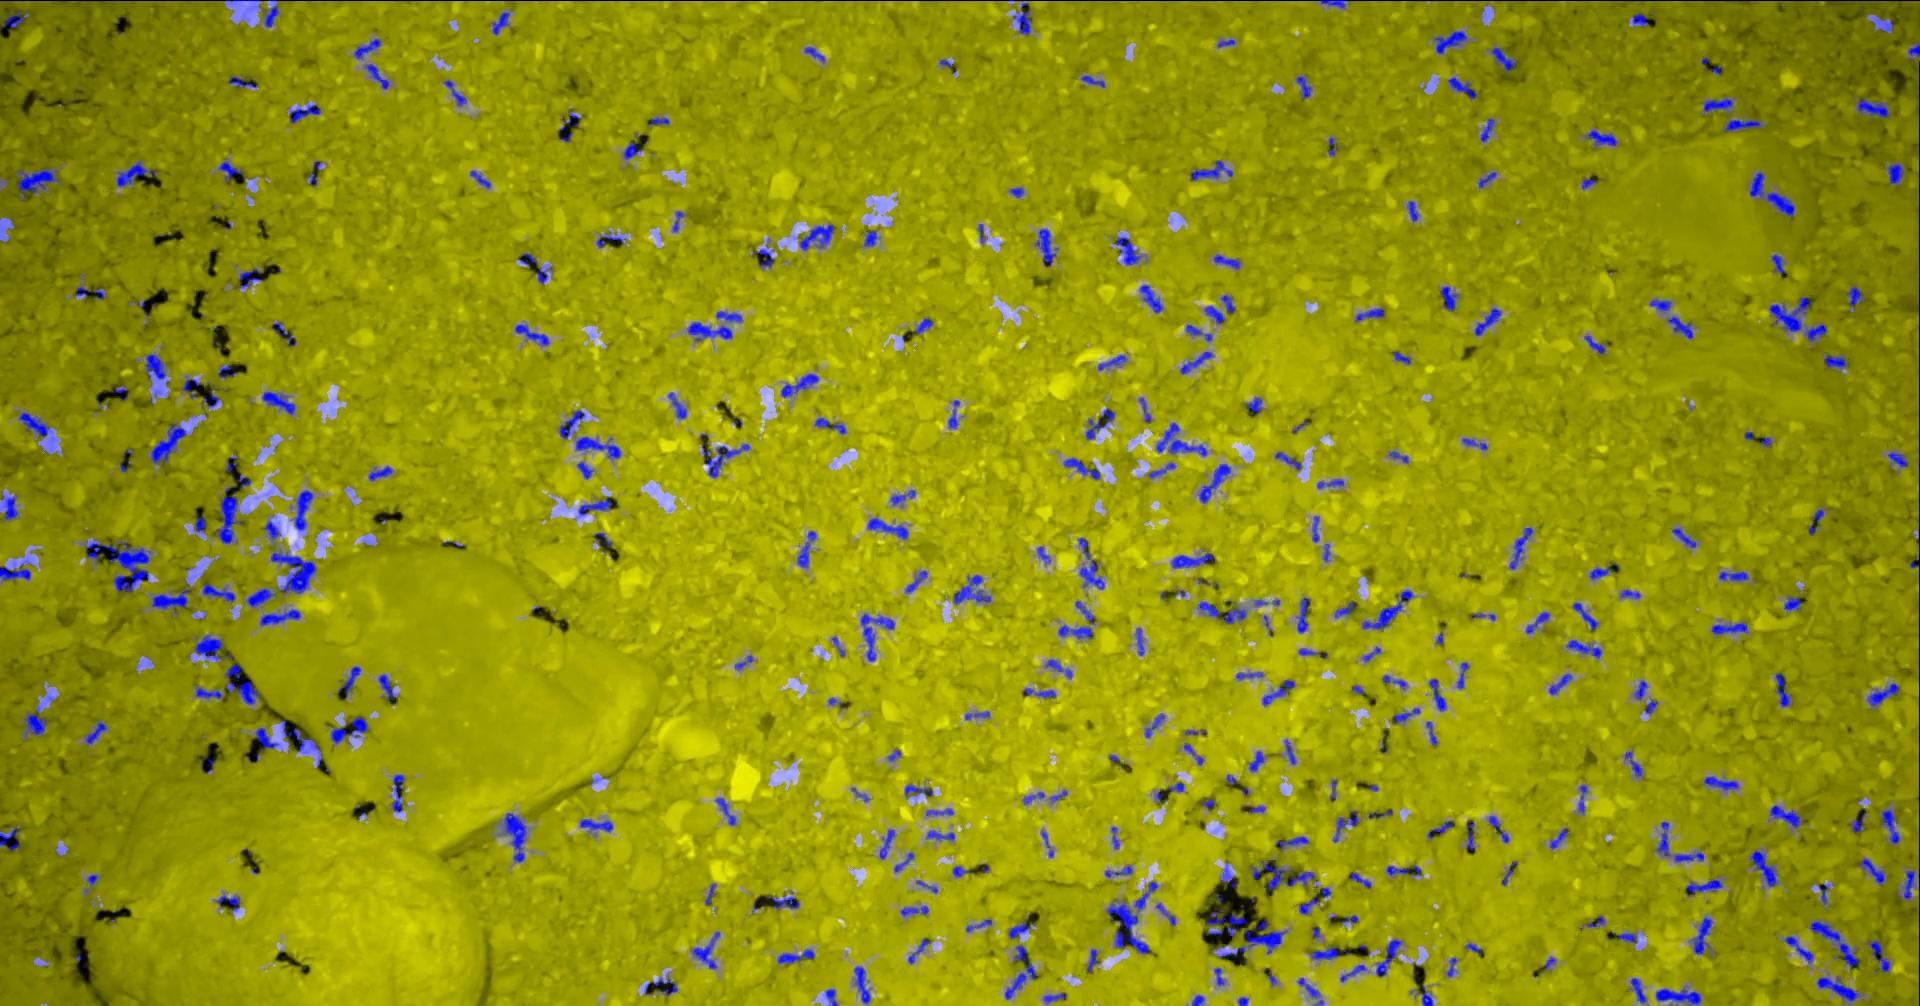ant: (1768, 296, 1826, 340), (1217, 920, 1286, 956), (1810, 921, 1858, 969), (1106, 902, 1148, 953), (1749, 171, 1794, 216), (1361, 589, 1413, 627), (270, 550, 316, 593), (700, 441, 749, 478), (1156, 422, 1206, 456), (212, 485, 243, 542), (1004, 944, 1035, 998), (860, 614, 894, 661), (687, 311, 742, 340), (223, 663, 260, 704), (150, 423, 185, 464), (1077, 537, 1103, 589), (279, 719, 320, 752), (1197, 464, 1230, 503), (17, 169, 58, 199), (952, 574, 990, 605), (151, 583, 189, 614), (503, 812, 526, 862), (1205, 907, 1244, 936), (1816, 976, 1860, 1001), (1252, 860, 1289, 890), (1749, 850, 1777, 887), (691, 931, 719, 968), (575, 436, 620, 459), (116, 161, 155, 187), (330, 716, 367, 743), (1375, 937, 1401, 976), (1509, 527, 1531, 569), (799, 224, 834, 250), (1084, 408, 1114, 439), (780, 373, 818, 398), (1035, 227, 1058, 265), (1690, 916, 1713, 954), (1190, 160, 1232, 180), (1783, 935, 1813, 963), (867, 517, 907, 539), (1112, 236, 1142, 264), (1655, 987, 1700, 1005), (1262, 680, 1294, 705), (1332, 810, 1357, 842), (1865, 682, 1898, 706), (1432, 30, 1467, 53), (1063, 457, 1098, 479), (337, 666, 361, 697), (1180, 351, 1213, 373), (262, 391, 295, 414), (1769, 804, 1802, 827), (293, 490, 312, 530), (1297, 977, 1323, 1005), (559, 409, 584, 438), (514, 324, 549, 345), (75, 274, 105, 298), (18, 412, 50, 434), (1867, 940, 1890, 972), (796, 531, 817, 567), (1474, 307, 1500, 335), (1572, 602, 1597, 630), (194, 634, 222, 659), (1859, 857, 1884, 885), (23, 706, 47, 735), (1170, 553, 1214, 568), (1566, 639, 1601, 658), (1857, 98, 1890, 118), (259, 608, 300, 625), (1685, 878, 1722, 895), (1879, 809, 1898, 843), (1448, 76, 1476, 99), (1139, 285, 1162, 312), (1134, 882, 1157, 909), (1583, 130, 1617, 149), (578, 495, 611, 514), (853, 967, 870, 1005), (0, 560, 30, 580), (1490, 47, 1515, 71), (364, 64, 389, 89), (1667, 315, 1693, 339), (1012, 0, 1030, 34), (443, 79, 466, 105), (643, 977, 677, 995), (777, 948, 814, 964), (715, 796, 735, 826), (202, 583, 235, 601), (270, 321, 295, 345), (290, 104, 320, 123), (907, 937, 930, 963), (1774, 672, 1790, 706), (1429, 678, 1446, 710), (246, 588, 276, 607), (218, 159, 243, 182), (143, 353, 165, 379), (85, 719, 107, 744), (353, 38, 380, 58), (814, 417, 844, 434), (1589, 561, 1619, 579), (1488, 815, 1509, 842), (1525, 611, 1549, 633), (255, 727, 279, 748), (1623, 751, 1642, 777), (1703, 776, 1738, 790), (237, 267, 262, 287), (1671, 527, 1695, 547), (1144, 713, 1164, 737), (667, 392, 686, 418), (1045, 659, 1070, 678), (1285, 870, 1314, 887), (1058, 624, 1092, 638), (1655, 821, 1669, 855), (1274, 451, 1300, 469), (391, 774, 404, 810), (752, 246, 773, 268), (905, 570, 927, 592), (1548, 673, 1571, 694), (1410, 984, 1432, 1005), (1338, 964, 1366, 981), (0, 826, 19, 850), (0, 494, 18, 520), (1297, 597, 1309, 633), (378, 674, 396, 700), (1427, 821, 1453, 838), (1097, 354, 1126, 370), (879, 829, 894, 859), (1898, 870, 1914, 899), (3, 11, 29, 28), (1846, 285, 1863, 311), (1185, 324, 1211, 340), (559, 108, 579, 130), (182, 375, 201, 398), (1076, 600, 1095, 622), (1183, 742, 1203, 765), (1156, 902, 1175, 925), (491, 11, 509, 36), (1440, 286, 1458, 310), (1702, 97, 1732, 111), (596, 231, 623, 246), (1630, 977, 1646, 1005), (1723, 119, 1760, 131), (1710, 622, 1747, 634), (1807, 508, 1823, 533), (579, 818, 612, 831), (1275, 836, 1308, 848), (766, 895, 799, 908), (1008, 921, 1034, 937), (1583, 335, 1605, 354), (1309, 945, 1338, 959), (1148, 462, 1175, 478), (1393, 708, 1420, 723), (263, 520, 279, 544), (1222, 606, 1246, 622), (890, 489, 916, 504), (893, 852, 913, 871), (803, 46, 824, 64), (469, 170, 490, 188), (1549, 827, 1567, 848), (1213, 254, 1239, 268), (368, 465, 392, 480), (1501, 861, 1516, 885), (622, 140, 641, 159), (1886, 163, 1903, 183), (1204, 305, 1224, 323), (1385, 865, 1421, 875), (1298, 897, 1318, 915), (1870, 15, 1892, 32), (910, 318, 932, 334), (1197, 601, 1219, 617), (1849, 810, 1865, 832), (1355, 307, 1383, 320), (196, 685, 221, 699), (263, 4, 278, 27), (1295, 75, 1310, 98), (1672, 851, 1703, 862), (216, 894, 239, 909), (1040, 831, 1053, 857), (1823, 354, 1848, 368), (1382, 674, 1406, 688), (1887, 451, 1907, 467), (1335, 601, 1355, 617), (227, 75, 257, 86), (947, 399, 959, 428), (1349, 873, 1370, 888), (309, 160, 321, 185), (1023, 687, 1055, 697), (1481, 118, 1495, 141), (904, 784, 932, 795), (1103, 865, 1131, 876), (900, 904, 928, 916), (1248, 751, 1263, 771), (1138, 398, 1150, 422), (1425, 721, 1437, 746), (1086, 948, 1098, 972), (1457, 662, 1468, 688), (1577, 784, 1587, 813), (202, 389, 218, 406), (1648, 298, 1671, 311), (1462, 438, 1487, 450), (1220, 868, 1236, 887), (1043, 992, 1065, 1005), (517, 251, 537, 265), (1771, 253, 1785, 273), (1316, 478, 1343, 488), (926, 829, 954, 840), (1079, 75, 1103, 86), (1284, 739, 1295, 763), (966, 920, 990, 931), (1406, 199, 1418, 221), (1244, 398, 1261, 414), (577, 461, 593, 478), (1477, 171, 1495, 187), (593, 532, 611, 547), (1718, 572, 1749, 580), (1783, 594, 1801, 610), (1465, 819, 1474, 850), (1220, 293, 1234, 312), (734, 655, 753, 669), (1388, 450, 1408, 462), (1023, 791, 1044, 804), (1392, 351, 1410, 365), (1135, 627, 1144, 655), (1363, 647, 1380, 661), (1236, 671, 1263, 680), (218, 365, 237, 377), (1634, 680, 1647, 699), (672, 211, 683, 231), (1036, 546, 1050, 563), (964, 710, 989, 719), (1818, 883, 1829, 904), (1632, 11, 1647, 25), (1310, 514, 1318, 542), (924, 808, 952, 815), (863, 230, 876, 246), (535, 267, 547, 283), (225, 456, 237, 473), (824, 988, 837, 1005), (1319, 0, 1346, 8), (1907, 41, 1919, 58), (646, 116, 669, 124), (1586, 915, 1604, 926), (1644, 699, 1657, 714), (1617, 932, 1636, 942), (1446, 956, 1457, 976), (1619, 589, 1641, 598), (193, 516, 204, 532), (1368, 809, 1392, 817), (1214, 967, 1224, 984), (114, 386, 127, 400), (1111, 826, 1119, 848), (952, 865, 968, 876), (1167, 781, 1183, 791), (1581, 178, 1595, 189), (1008, 187, 1023, 197), (1217, 39, 1234, 47), (1327, 137, 1335, 155), (1191, 995, 1204, 1005), (1825, 0, 1903, 1), (1917, 61, 1919, 114)
